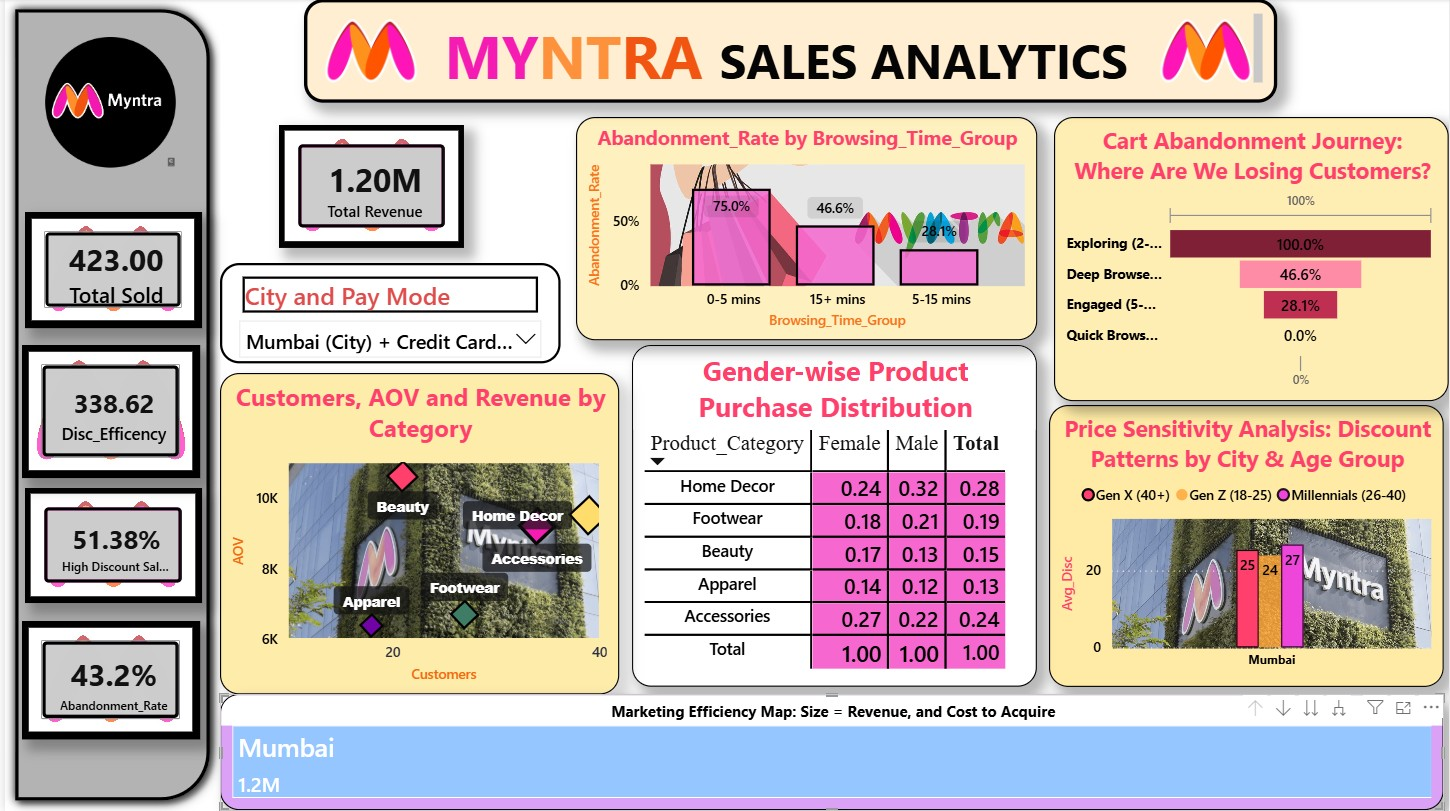

Layout of this report page (visuals, bound fields, positions):
{"tool":"powerbi","page":{"name":"Page 1","canvas":[1280,720],"ordinal":0},"visuals":[{"type":"textbox","box":[265.5,0,862.7,92.4],"z":0},{"type":"textbox","box":[150,240,300,300],"z":1000},{"type":"image","box":[273.3,16.5,103.1,58.4],"z":2000},{"type":"image","box":[1013.5,16.5,103.1,58.4],"z":3000},{"type":"shape","box":[0,0,190.6,719.8],"z":4000},{"type":"image","box":[26.6,33.7,133.9,116.2],"z":5000},{"type":"cardVisual","fields":{"Data":["Sheet1.Total_Quantity"]},"box":[17.7,188.9,156.9,102.9],"z":6000},{"type":"cardVisual","fields":{"Data":["Sheet1.Total Revenue"]},"box":[243.2,111.9,164.4,108.9],"z":7000},{"type":"cardVisual","fields":{"Data":["Sheet1.High Discount Sales %"]},"box":[17.7,433.6,156.9,102],"z":8000},{"type":"cardVisual","fields":{"Data":["Sheet1.Abandonment_Rate"]},"box":[15.1,551.5,157.8,104.6],"z":9000},{"type":"pivotTable","title":"Gender-wise Product Purchase Distribution","fields":{"Rows":["Sheet1.Product_Category"],"Columns":["Sheet1.Gender"],"Values":["Sheet1.Gender %"]},"box":[556,306.8,359.1,303.3],"z":10000},{"type":"clusteredColumnChart","fields":{"Category":["Sheet1.Browsing_Time_Group"],"Y":["Sheet1.Abandonment_Rate"]},"box":[506.7,105,408.5,198.4],"z":11000},{"type":"scatterChart","fields":{"X":["Sheet1.Total_Customers"],"Y":["Sheet1.AOV"],"Size":["Sheet1.Total Revenue"],"Series":["Sheet1.Product_Category"]},"box":[190.6,331.7,354,285],"z":12000},{"type":"lineClusteredColumnComboChart","title":"Price Sensitivity Analysis: Discount Patterns by City & Age Group","fields":{"Category":["Sheet1.City"],"Series":["Sheet1.Age_Group"],"Y":["Avg(Sheet1.Discount_Applied)"]},"box":[926,359.9,350.2,250],"z":13000},{"type":"treemap","title":"Marketing Efficiency Map: Size = Revenue, and Cost to Acquire","fields":{"Group":["Sheet1.City","Sheet1.Product_Category","Sheet1.Gender"],"Values":["Sheet1.Total Revenue"]},"box":[190.6,616.7,1085.5,103.1],"z":14000},{"type":"funnel","title":"Cart Abandonment Journey: Where Are We Losing Customers?","fields":{"Category":["Sheet1.Browsing_Stage1"],"Y":["Sheet1.Abandonment_Rate"]},"box":[929.8,105,350.2,251.9],"z":15000},{"type":"cardVisual","fields":{"Data":["Sheet1.Discount_Efficiency"]},"box":[15.1,306.8,157.8,117.9],"z":16000},{"type":"slicer","fields":{"Values":["Sheet1.City","Sheet1.Payment_Method"]},"box":[190.6,234.4,302.5,89.5],"z":17000}]}

Visuals, with their boxes in screenshot pixels (x1, y1, x2, y2), scaled from the page's 1280x720 canvas onto the 1450x811 screenshot:
textbox: select_region(301, 0, 1278, 104)
textbox: select_region(170, 270, 510, 608)
image: select_region(310, 19, 426, 84)
image: select_region(1148, 19, 1265, 84)
shape: select_region(0, 0, 216, 810)
image: select_region(30, 38, 182, 169)
cardVisual - Sheet1.Total_Quantity: select_region(20, 213, 198, 329)
cardVisual - Sheet1.Total Revenue: select_region(276, 126, 462, 249)
cardVisual - Sheet1.High Discount Sales %: select_region(20, 488, 198, 603)
cardVisual - Sheet1.Abandonment_Rate: select_region(17, 621, 196, 739)
"Gender-wise Product Purchase Distribution" pivotTable: select_region(630, 346, 1037, 687)
clusteredColumnChart - Sheet1.Browsing_Time_Group x Sheet1.Abandonment_Rate: select_region(574, 118, 1037, 342)
scatterChart - Sheet1.Total_Customers x Sheet1.AOV: select_region(216, 374, 617, 695)
"Price Sensitivity Analysis: Discount Patterns by City & Age Group" lineClusteredColumnComboChart: select_region(1049, 405, 1446, 687)
"Marketing Efficiency Map: Size = Revenue, and Cost to Acquire" treemap: select_region(216, 695, 1446, 810)
"Cart Abandonment Journey: Where Are We Losing Customers?" funnel: select_region(1053, 118, 1449, 402)
cardVisual - Sheet1.Discount_Efficiency: select_region(17, 346, 196, 478)
slicer - Sheet1.City x Sheet1.Payment_Method: select_region(216, 264, 559, 365)
